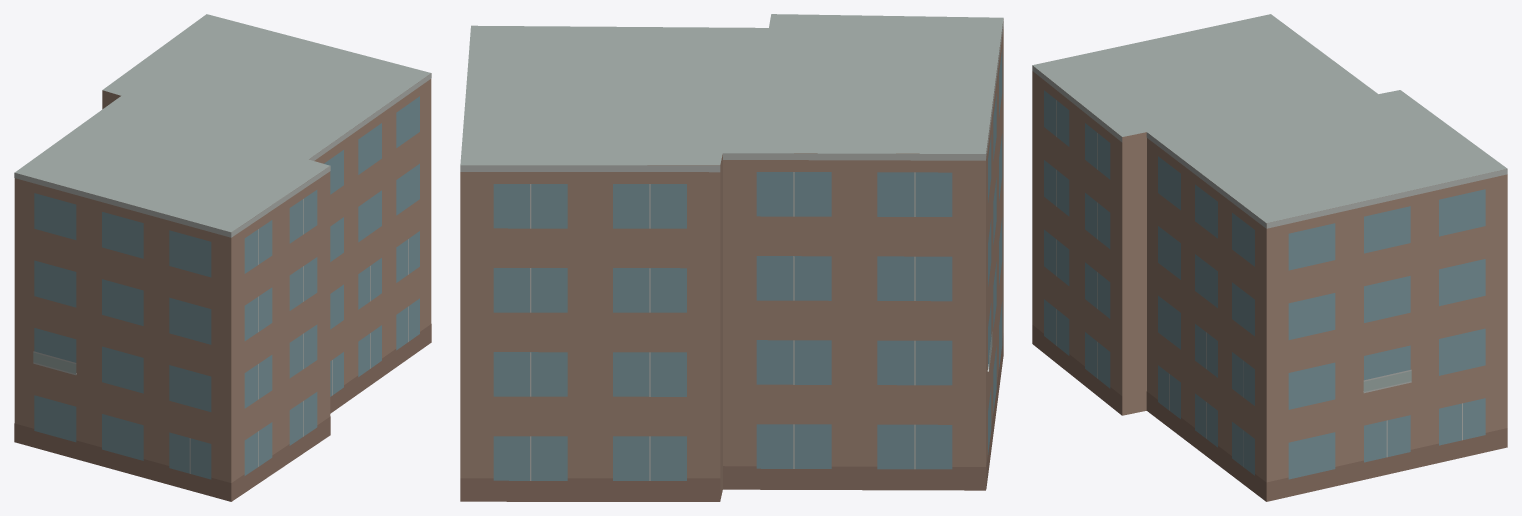
The model's file is survey-upis-32733335.glb.
3 renders of one model, left to right at view 1: azimuth 30°, elevation 25°; view 2: azimuth 150°, elevation 25°; view 3: azimuth 270°, elevation 25°, orthographic. The views are drawn at different scales.
Visible parts, largest first — view 1: survey-upis-32733335.tmp; view 2: survey-upis-32733335.tmp; view 3: survey-upis-32733335.tmp.
Part boxes in pixels (bbox=[...]): survey-upis-32733335.tmp: bbox=[14, 14, 431, 501]; survey-upis-32733335.tmp: bbox=[460, 14, 1003, 501]; survey-upis-32733335.tmp: bbox=[1032, 14, 1507, 501].
Size of the model in its own units: 19.66 by 12.2 by 18.87.
